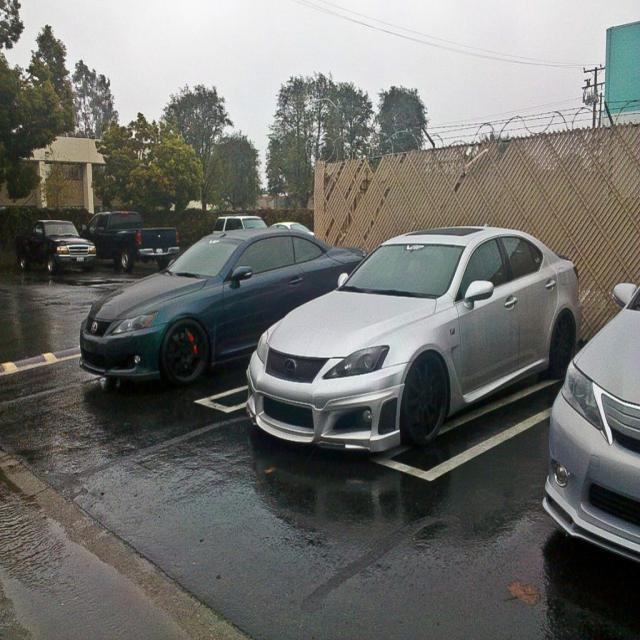car: (247, 222, 581, 433), (89, 211, 183, 269), (24, 215, 92, 269)
